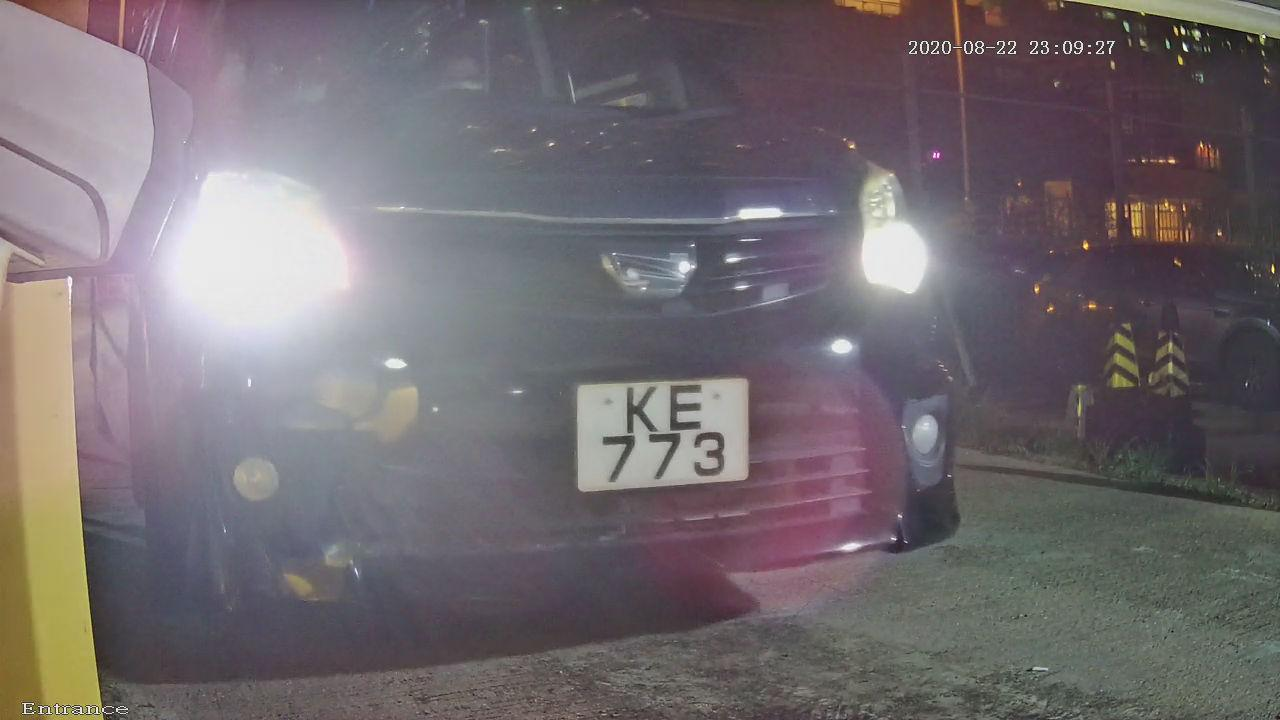Car: (6, 10, 1029, 672)
License Plate: (555, 361, 766, 515)
